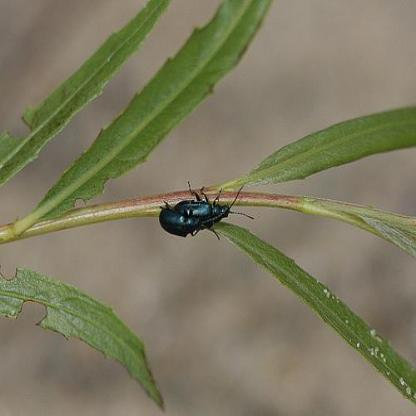beetle: (157, 197, 214, 247), (176, 190, 247, 226)
